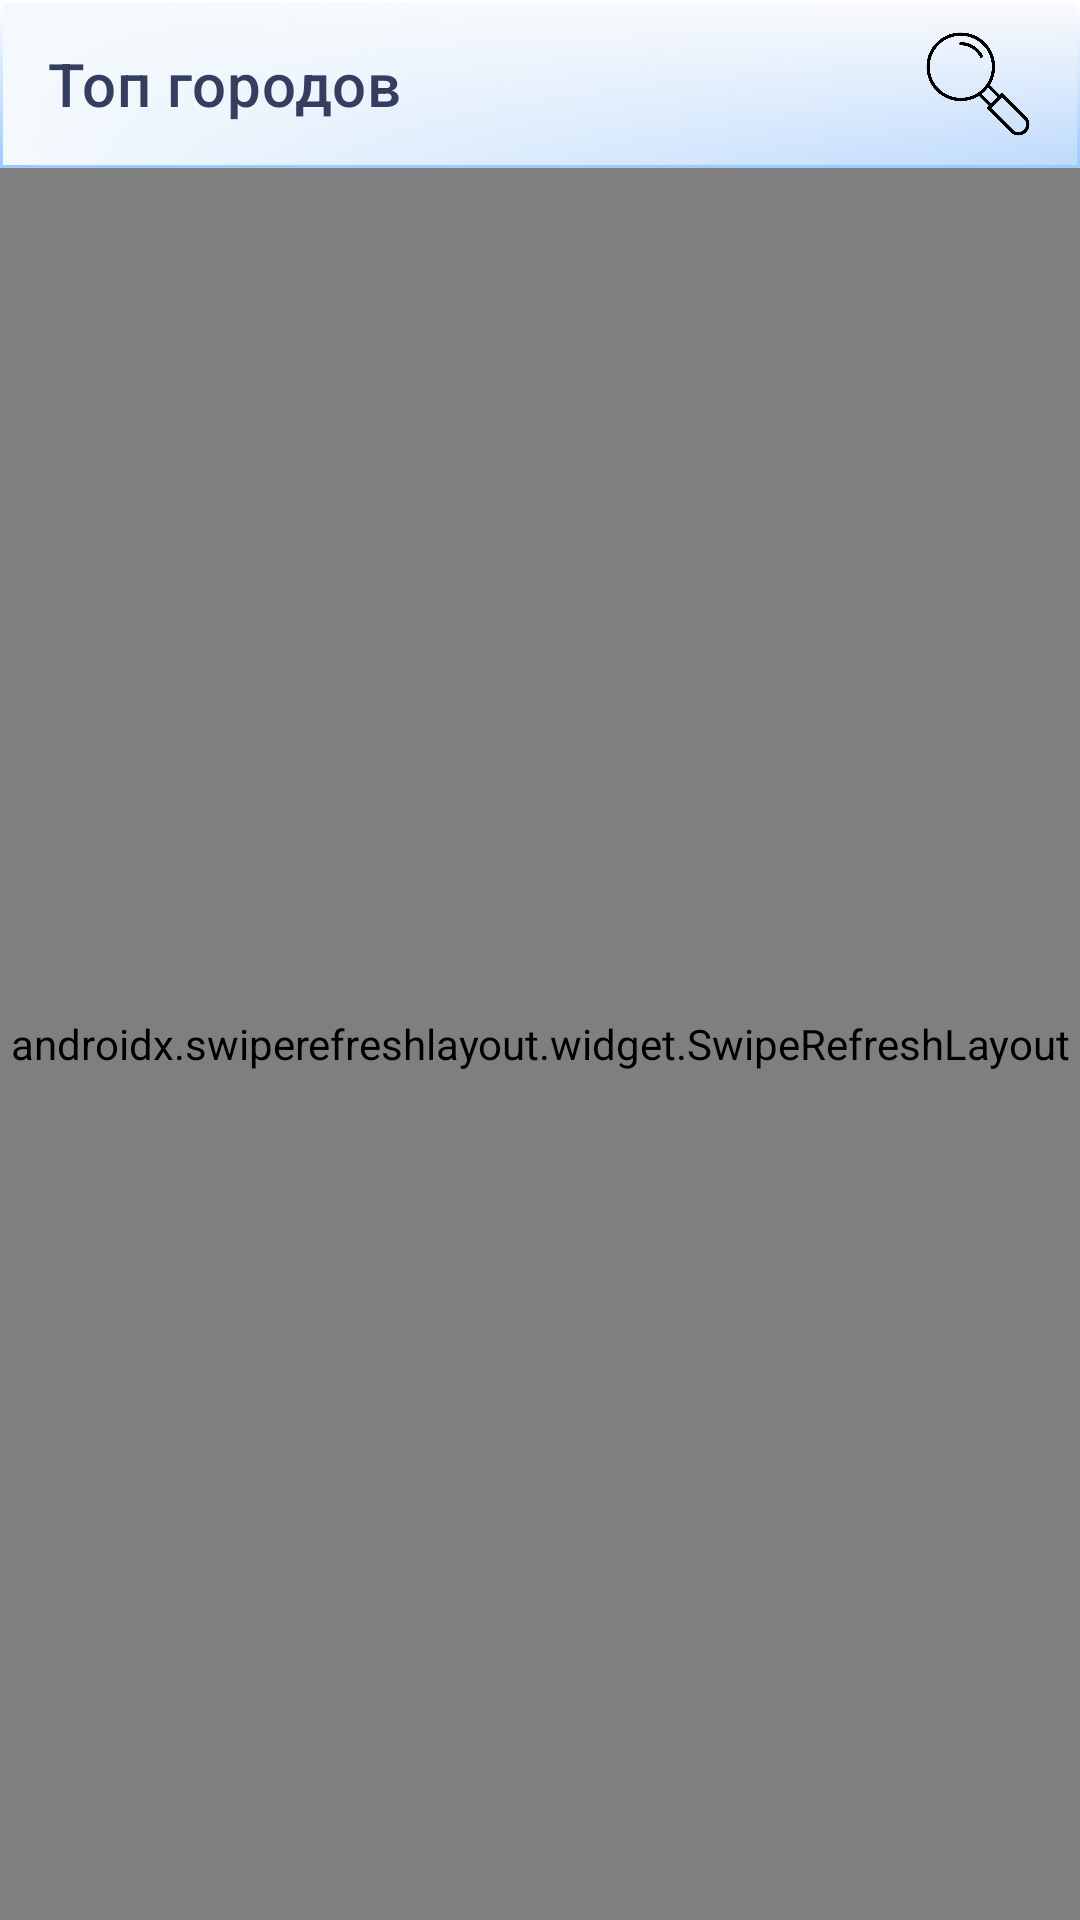

Screen size 1080w x 1920h. Icon name, then its center in pixels as point (x, y):
search: point (978, 84)
